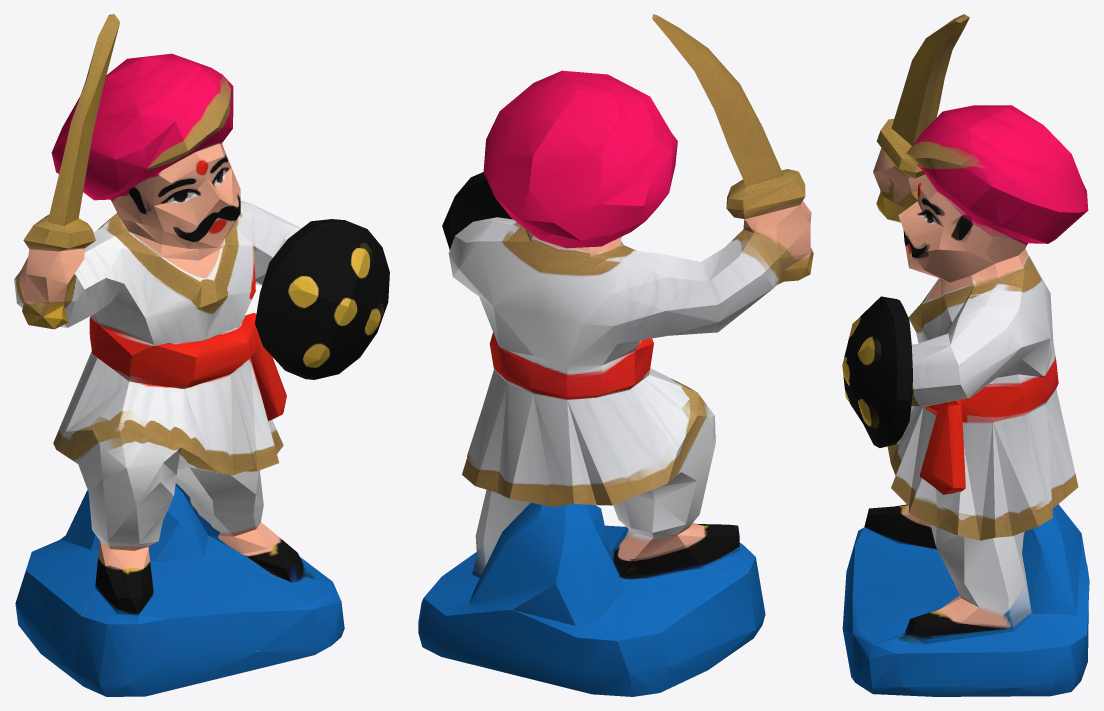
The model's file is warrior.glb.
The picture shows the model from 3 angles, left to right: view 1: azimuth 30°, elevation 25°; view 2: azimuth 150°, elevation 25°; view 3: azimuth 270°, elevation 25°; orthographic projection. The views are drawn at different scales.
Parts seen in each view (by area): view 1: mesh_000; view 2: mesh_000; view 3: mesh_000.
Part boxes in pixels (x1=…): mesh_000: x1=14, y1=14, x2=389, y2=696; mesh_000: x1=418, y1=14, x2=813, y2=696; mesh_000: x1=842, y1=14, x2=1089, y2=696.
Bounding box in the file's own units: 0.5738 × 0.9536 × 0.3584.
Materials: 1 (1 with a texture image).
